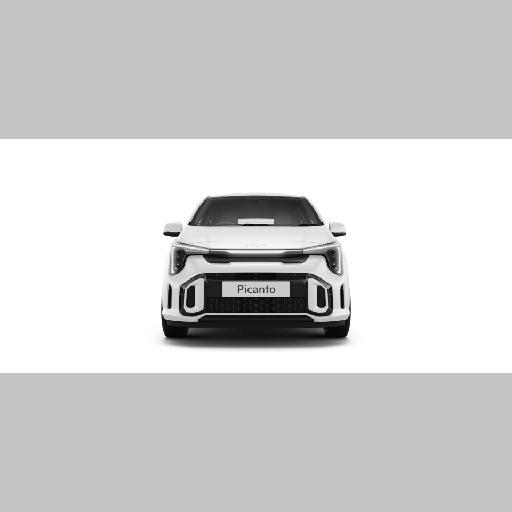hatchback: (162, 194, 349, 336)
